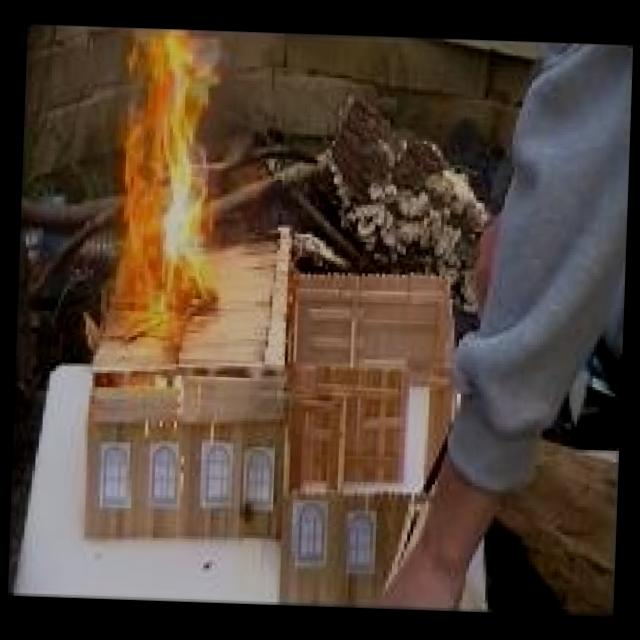fire: (96, 26, 230, 350)
